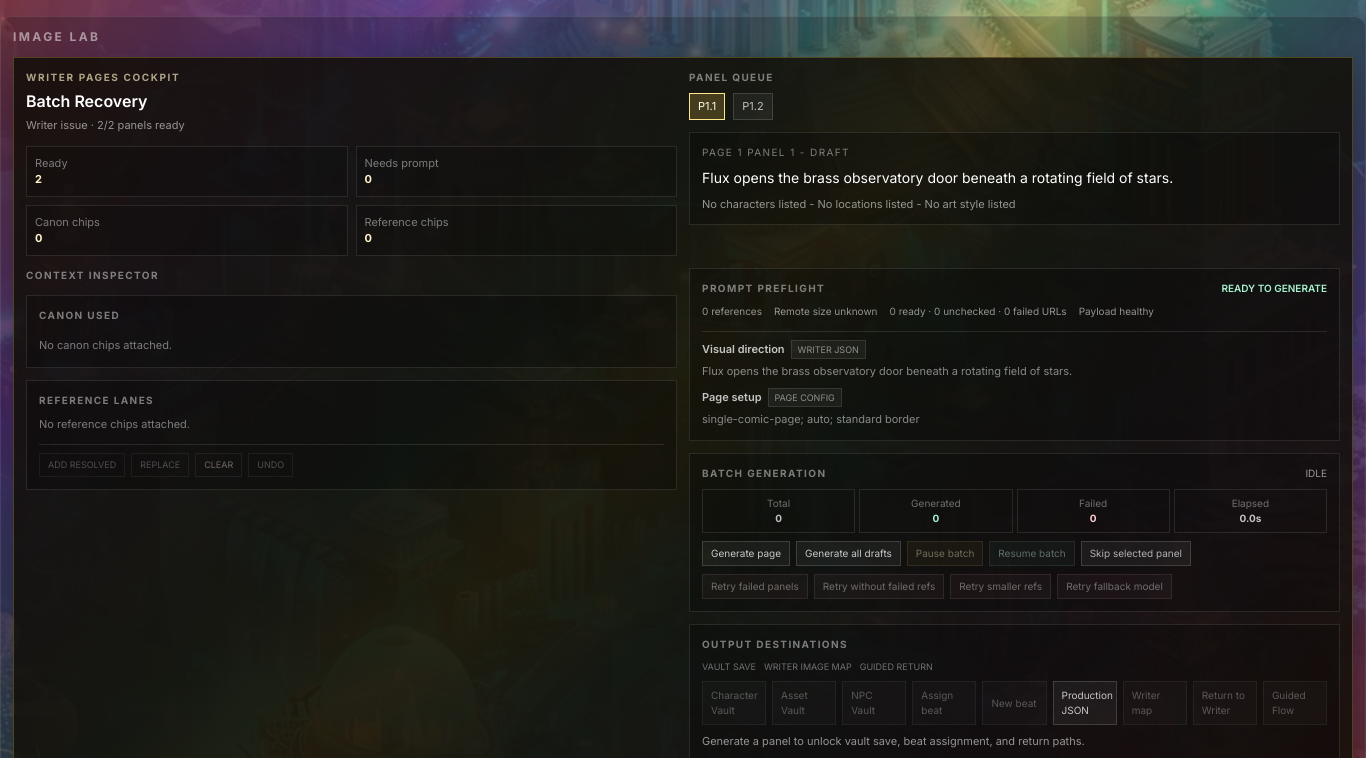
Test: GenericImageLabPanel production studio shell › preserves a successful panel when a page batch pauses and retries the failed panel
Click the button "Generate page" at (746, 553), box [702,540,790,566]
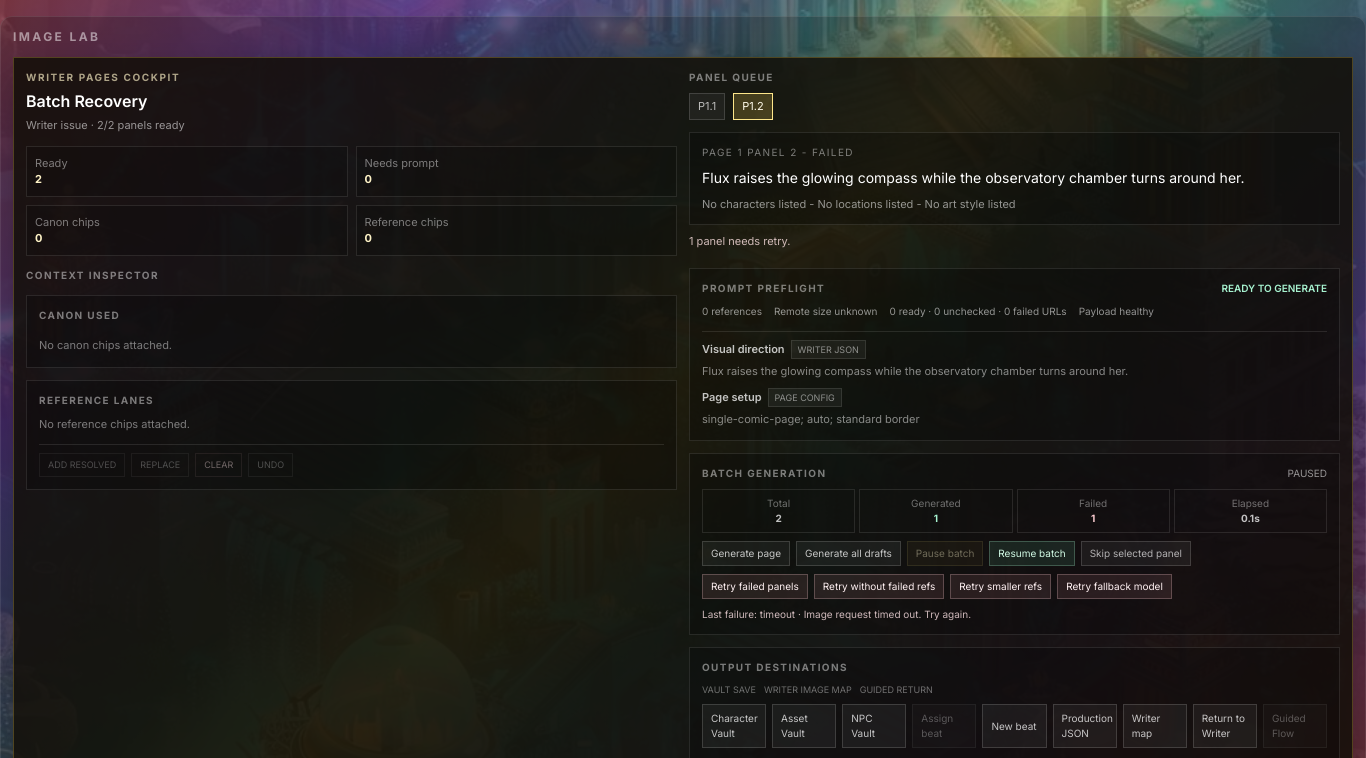
Click the button "Retry smaller refs" at (1001, 586), box [950,574,1051,598]
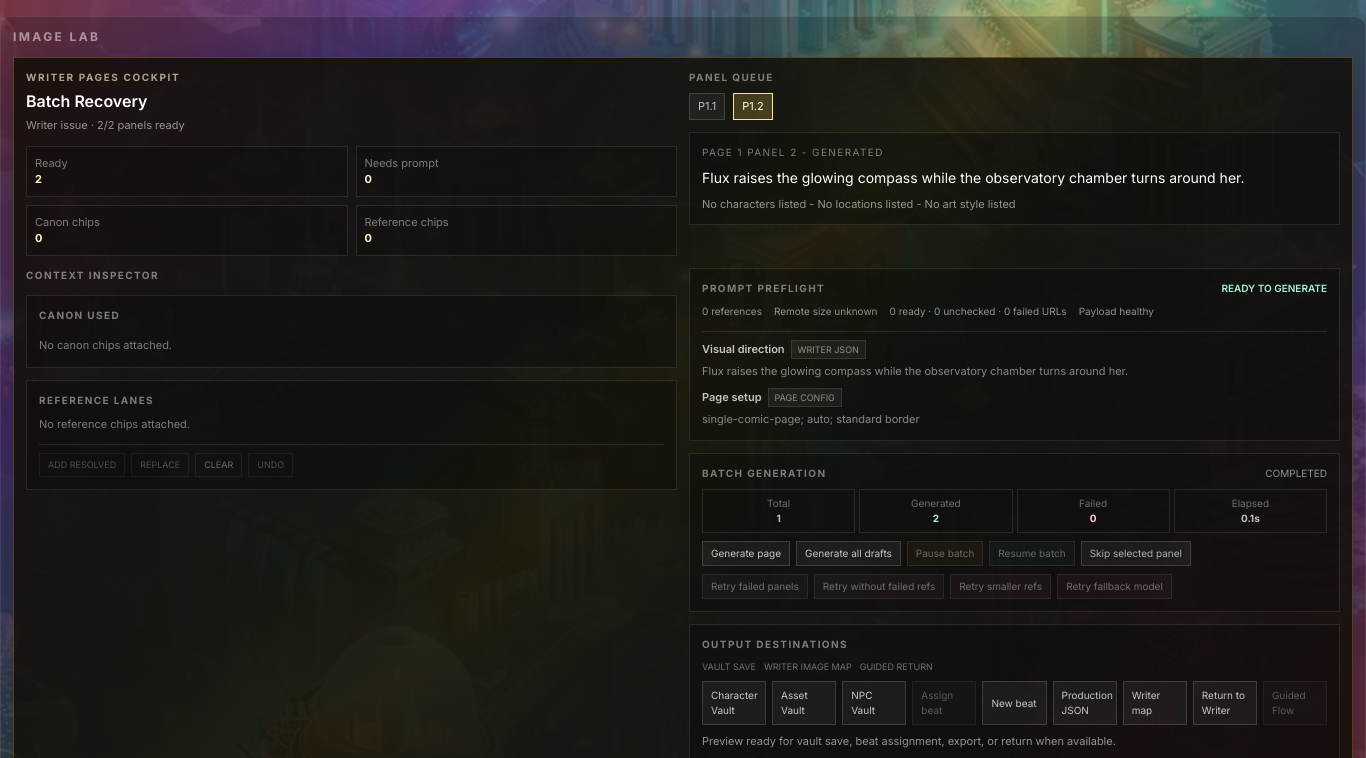
Expected: the button "Retry failed panels" is disabled, [702,574,808,598]
Expected: the button "Retry smaller refs" is disabled, [950,574,1051,598]
